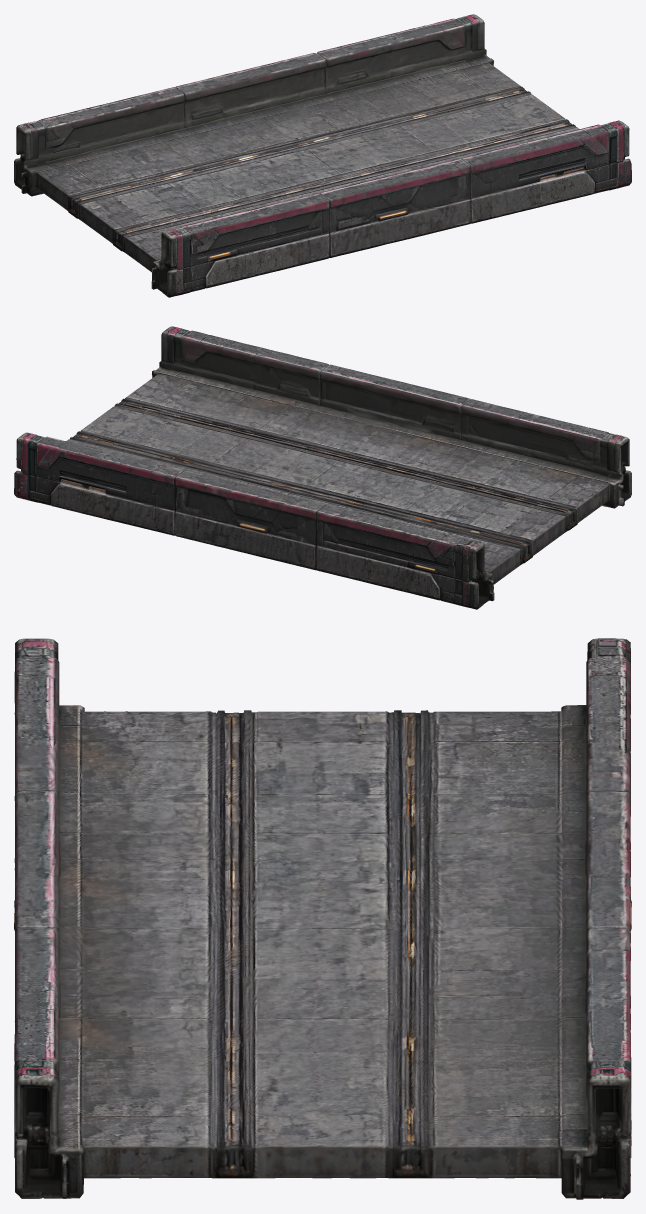
Rendered from kairox-transit-deck.glb.
The picture shows the model from 3 angles, top to bottom: view 1: azimuth 30°, elevation 25°; view 2: azimuth 150°, elevation 25°; view 3: azimuth 270°, elevation 25°; orthographic projection. The views are drawn at different scales.
Visible parts, largest first — view 1: kairox-transit-deck; view 2: kairox-transit-deck; view 3: kairox-transit-deck.
Part boxes in pixels (x1,y1,x2,y2): kairox-transit-deck: [14, 14, 631, 297]; kairox-transit-deck: [14, 326, 631, 609]; kairox-transit-deck: [14, 638, 631, 1199].
Bounding box in the file's own units: 8 × 1.01 × 4.6.
1 material, 1 textured.
